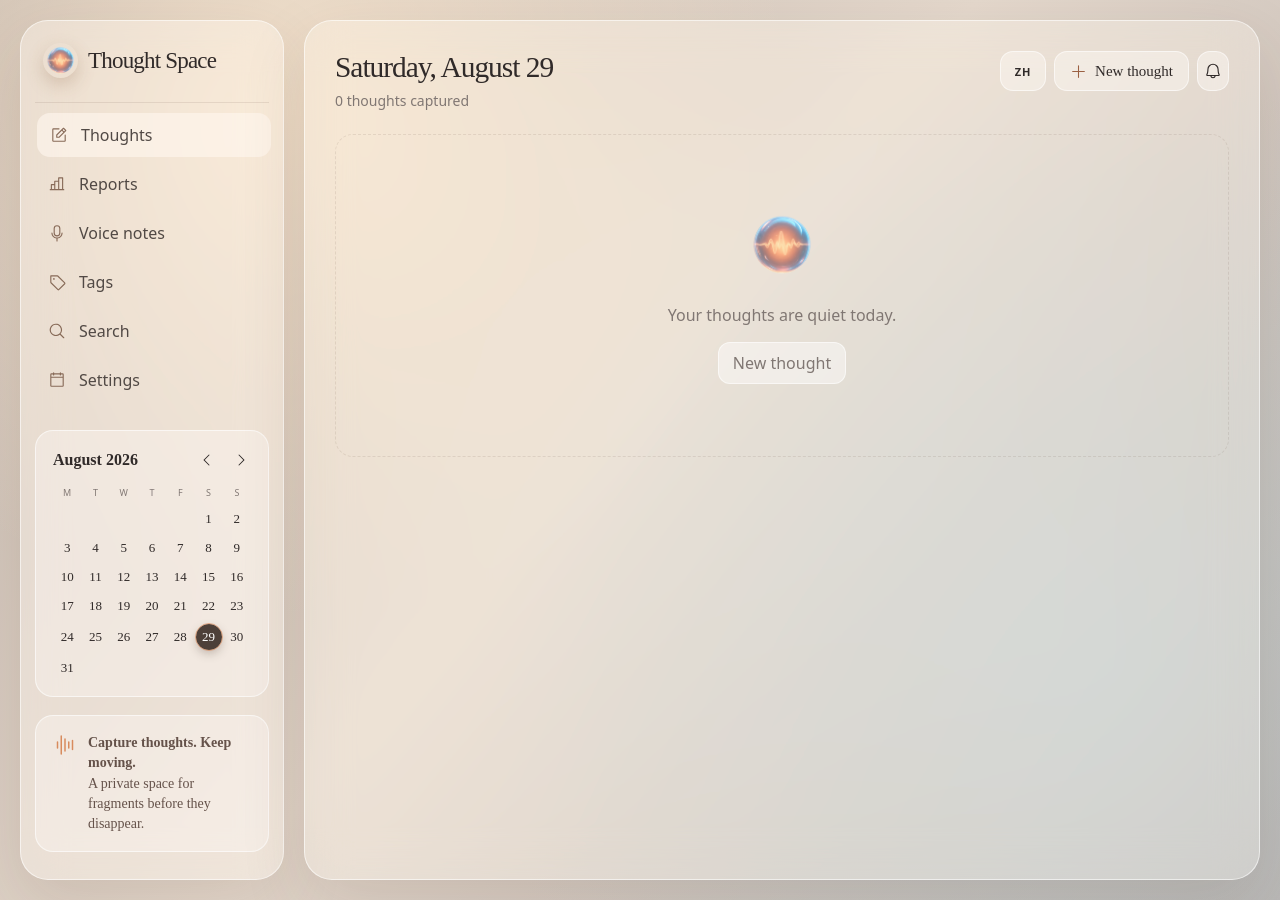
Test: local data migration › offers a one-time migration from the local database in Settings
The image size is (1280, 900).
Click the button "Settings" at [152, 380], box left=35, top=358, right=269, bottom=402
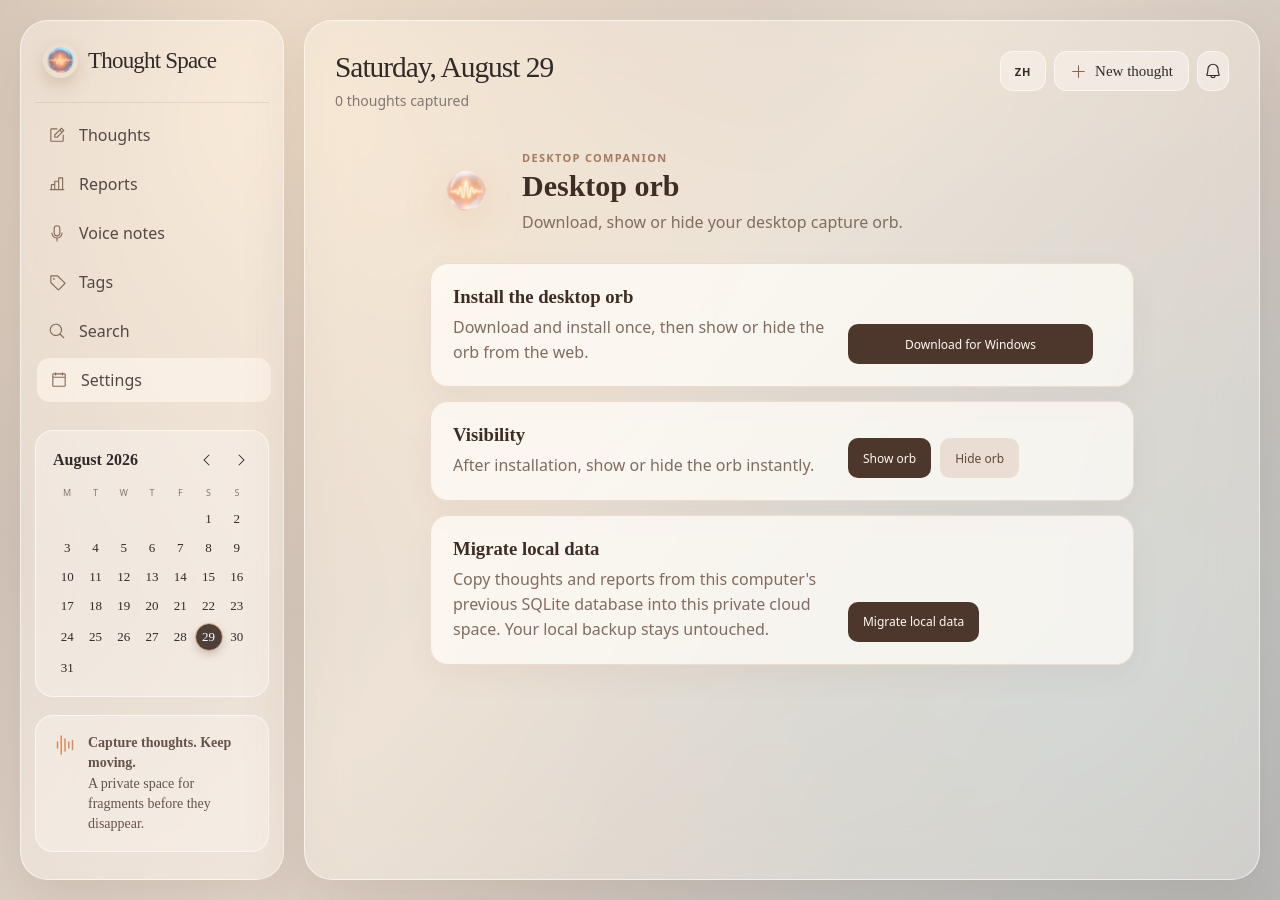
Check: the button "Migrate local data" is shown, box left=848, top=602, right=979, bottom=642
